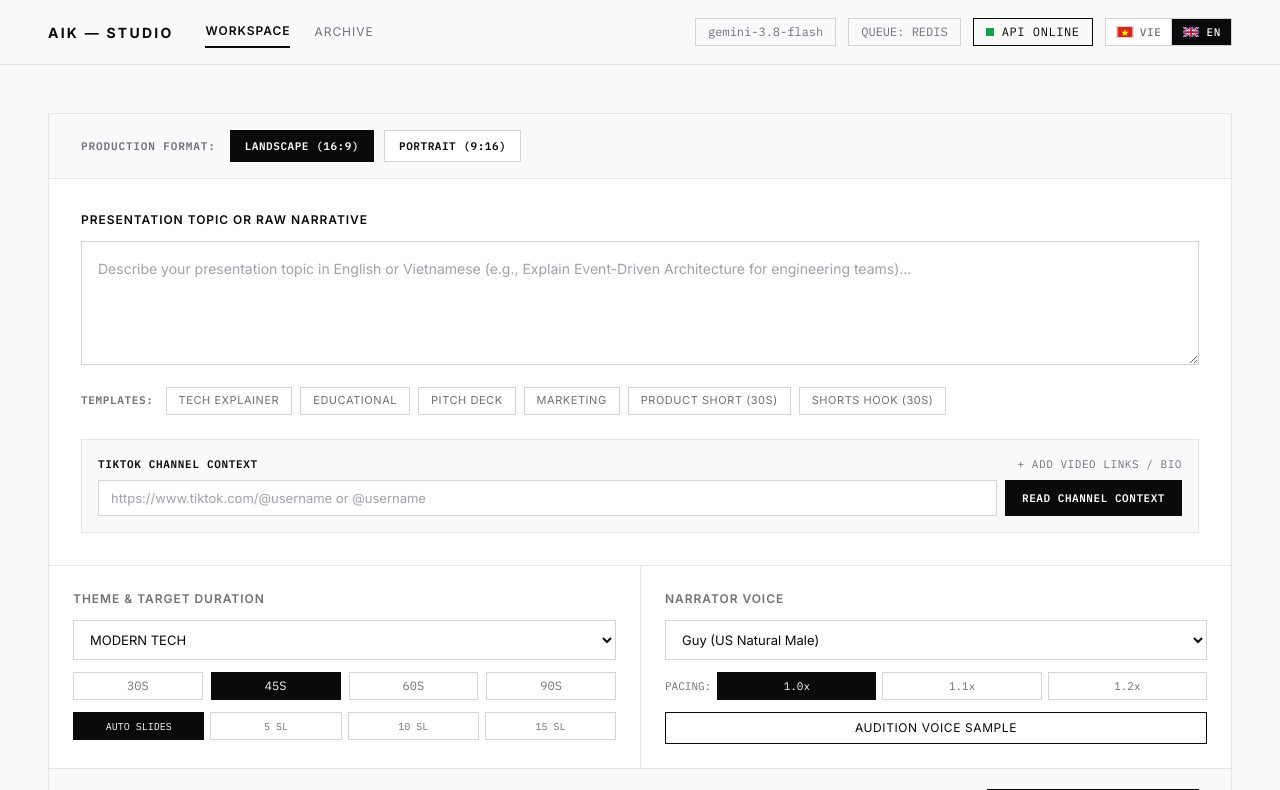
Test case: Interactive Web Studio User Flows (jsdom + Testing Library) › activates Vertical 9:16 Short Video mode presets, drafts short script, and renders vertical safe-zone canvas
Later steps or results of the test are not shown.
Click the dedicated "Create Short Video 9:16" mode switcher
Click the button with test id "mode-short-video-btn" at [453, 146], box top-left (384, 130), bottom-right (521, 162)
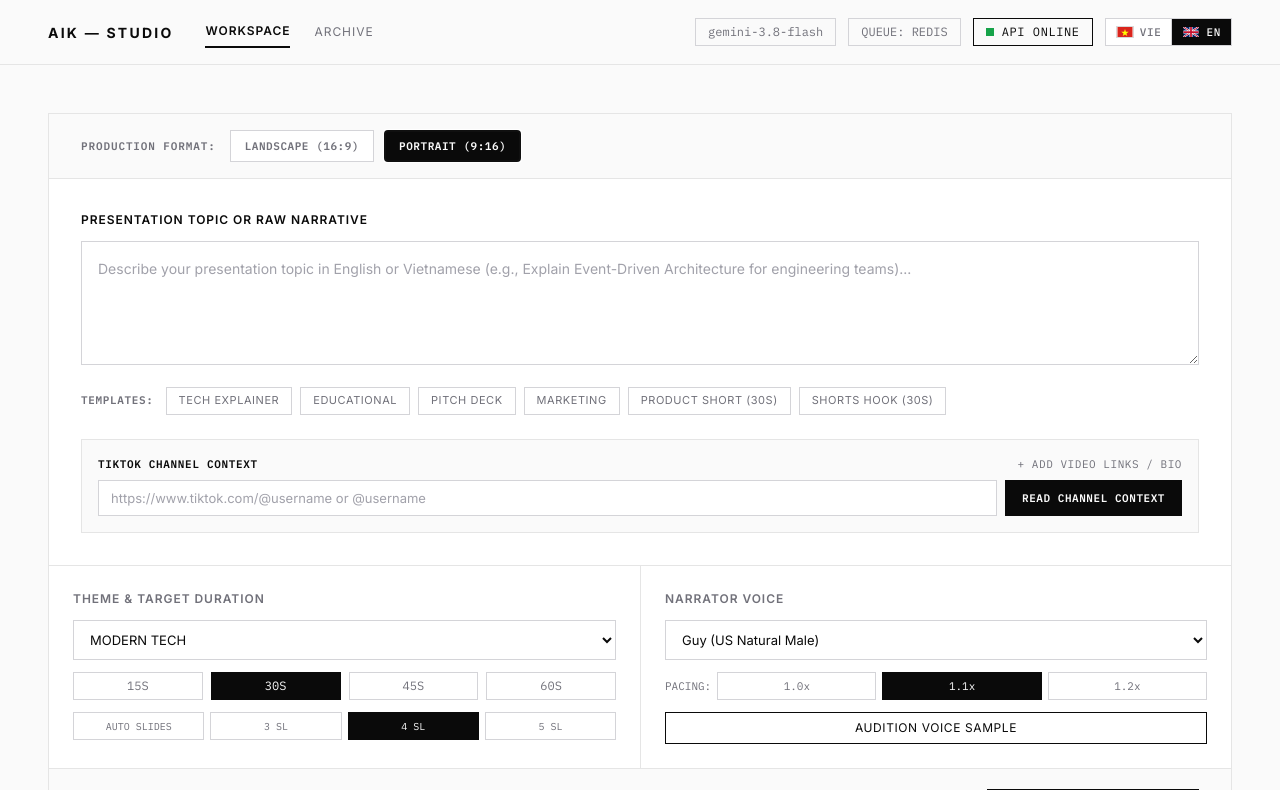
Now the button with test id "mode-short-video-btn" is pressed, box top-left (384, 130), bottom-right (521, 162)
